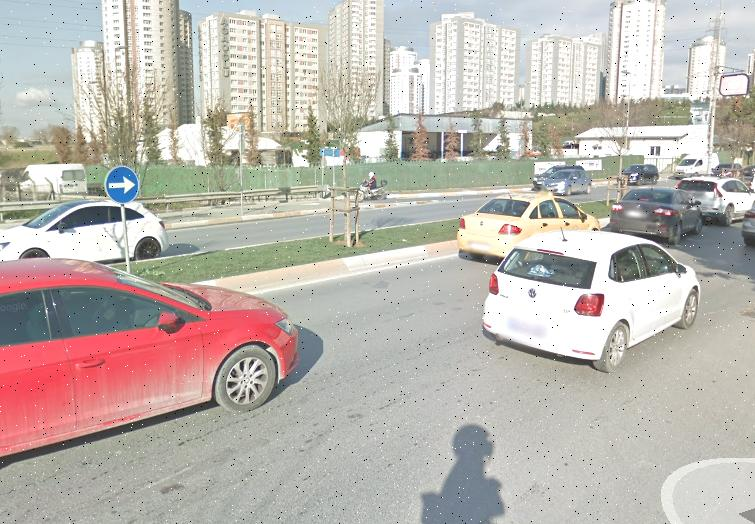turnright: (106, 165, 140, 201)
